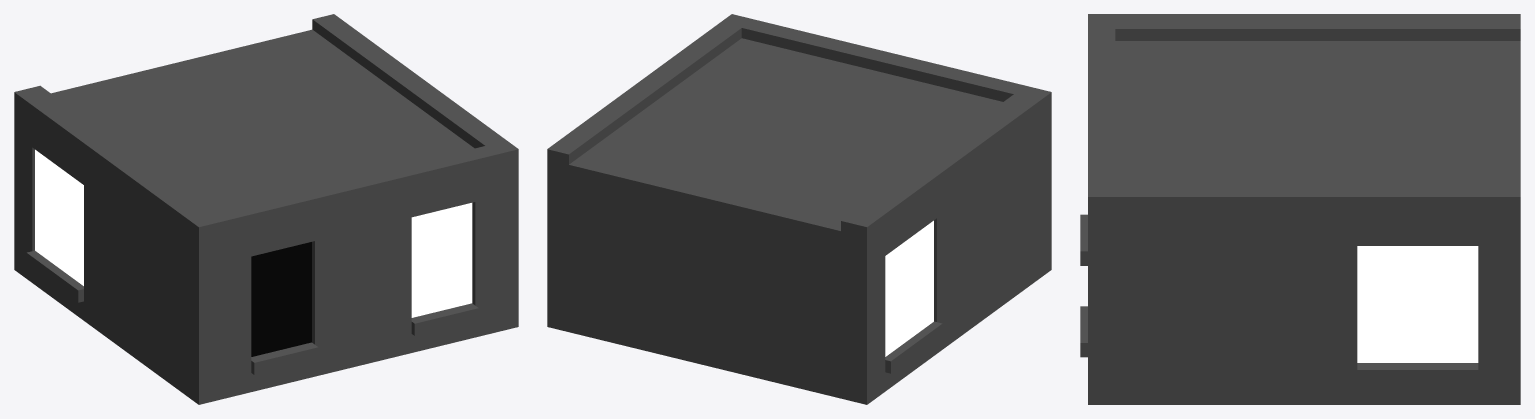
The model's file is immeuble4Milieu2.fbx.
3 views of the same model, side by side, from view 1: azimuth 30°, elevation 25°; view 2: azimuth 150°, elevation 25°; view 3: azimuth 270°, elevation 25° (orthographic). The views are drawn at different scales.
Visible parts, largest first — view 1: Cube.027; view 2: Cube.027; view 3: Cube.027.
Boxes of the visible parts, box(x1,y1,x2,y2) form: Cube.027: box(14, 14, 518, 404); Cube.027: box(547, 14, 1051, 404); Cube.027: box(1080, 14, 1520, 404).
Size of the model in its own units: 2061 by 1062 by 2036.
